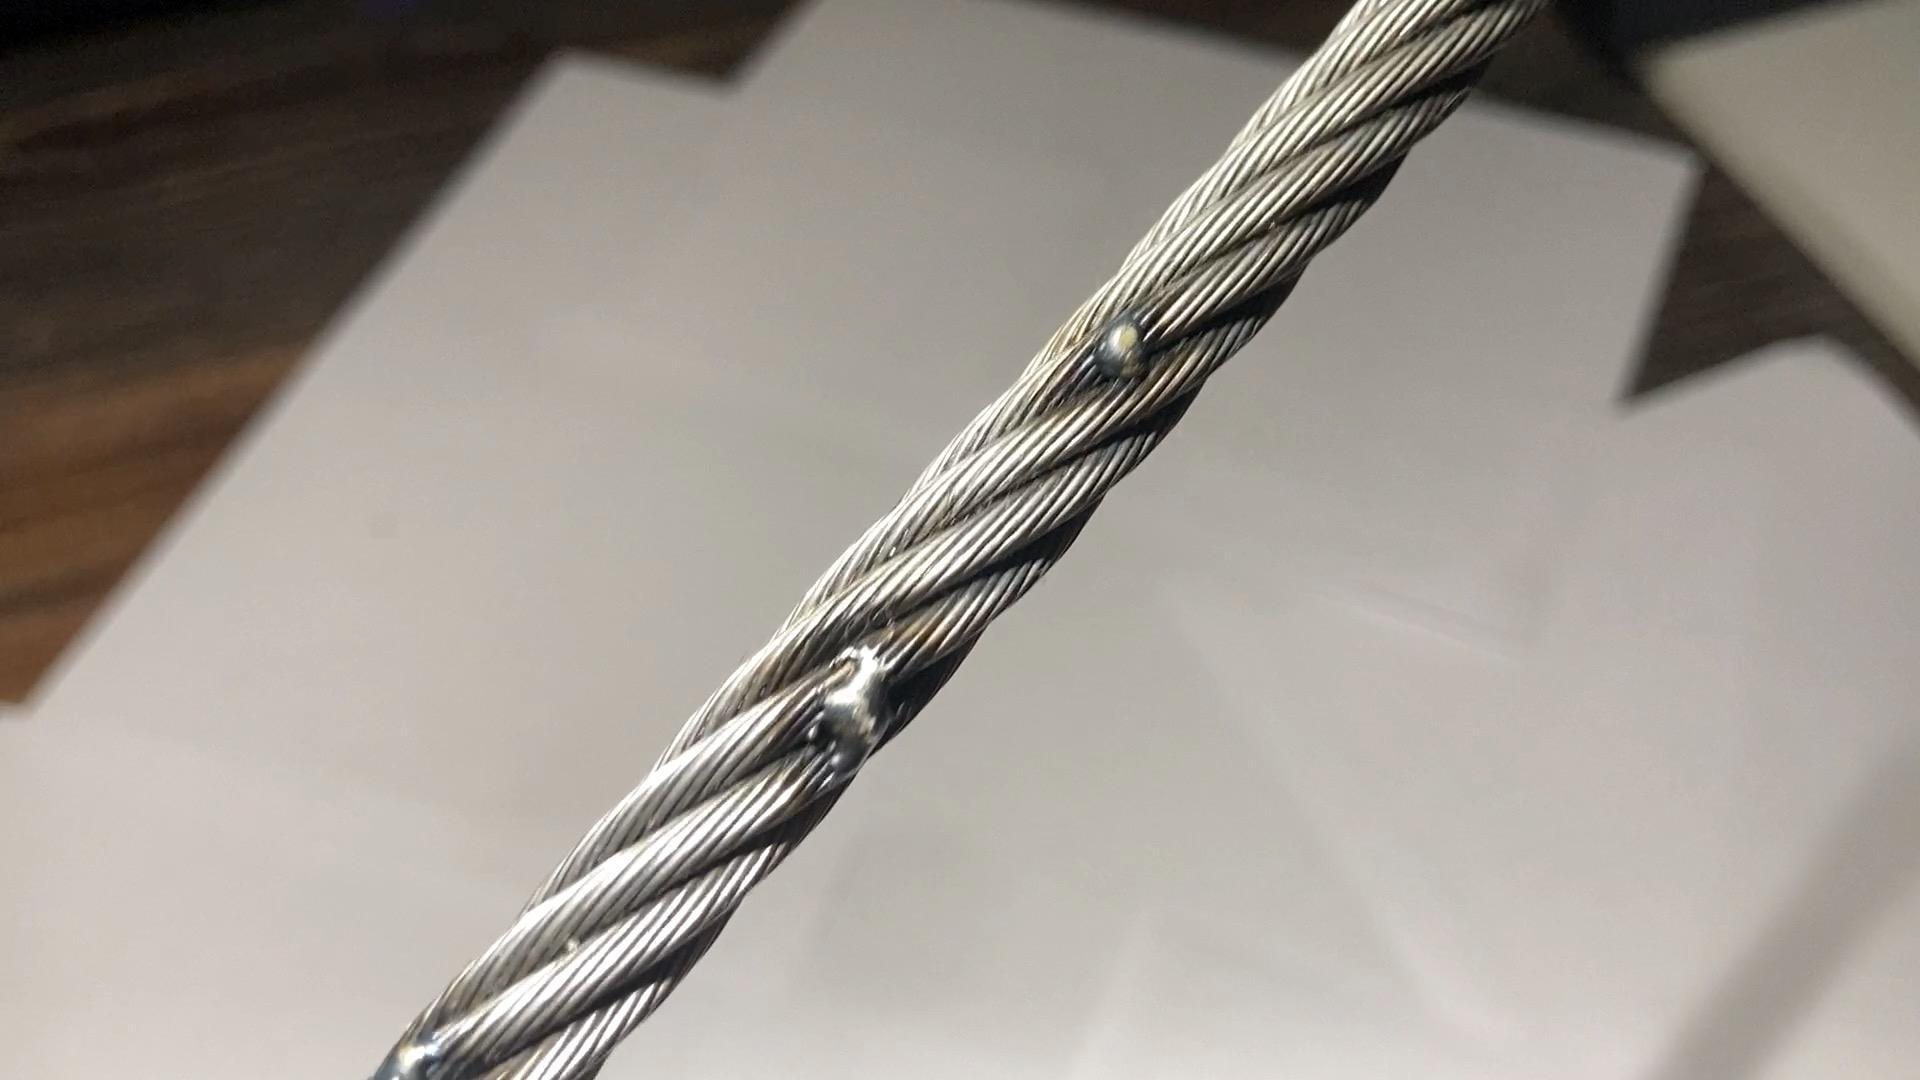thunderbolt: (1081, 303, 1187, 410), (811, 653, 923, 736)
